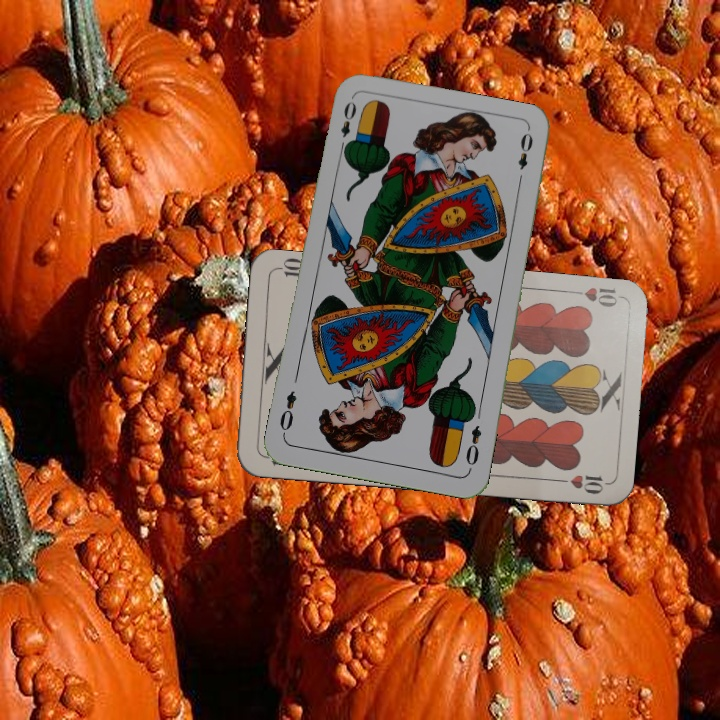EO: (336, 97, 359, 155), (461, 421, 485, 468)
H10: (564, 283, 620, 310)
